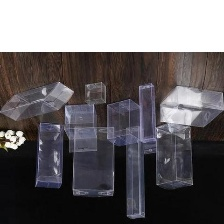plastic_box: (68, 123, 118, 202), (0, 76, 77, 126), (154, 81, 224, 131), (150, 120, 197, 194), (121, 122, 151, 224), (101, 96, 148, 151), (32, 120, 66, 192), (58, 101, 101, 156), (134, 78, 163, 159), (79, 78, 110, 109)
